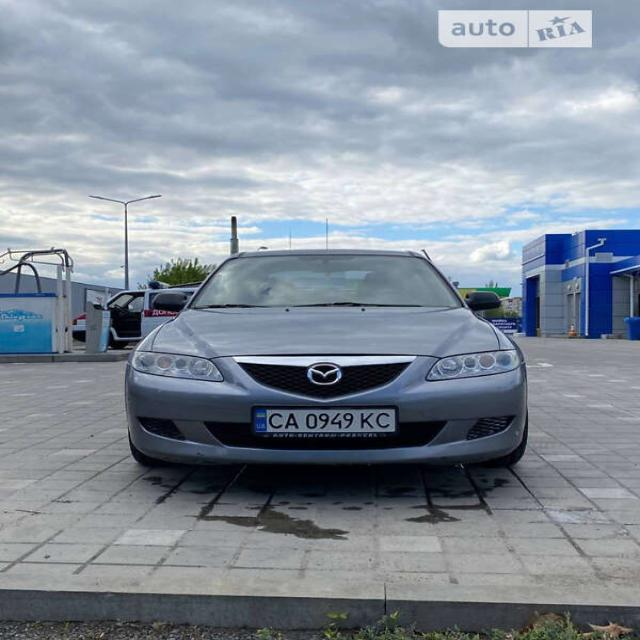plate: (251, 404, 401, 441)
